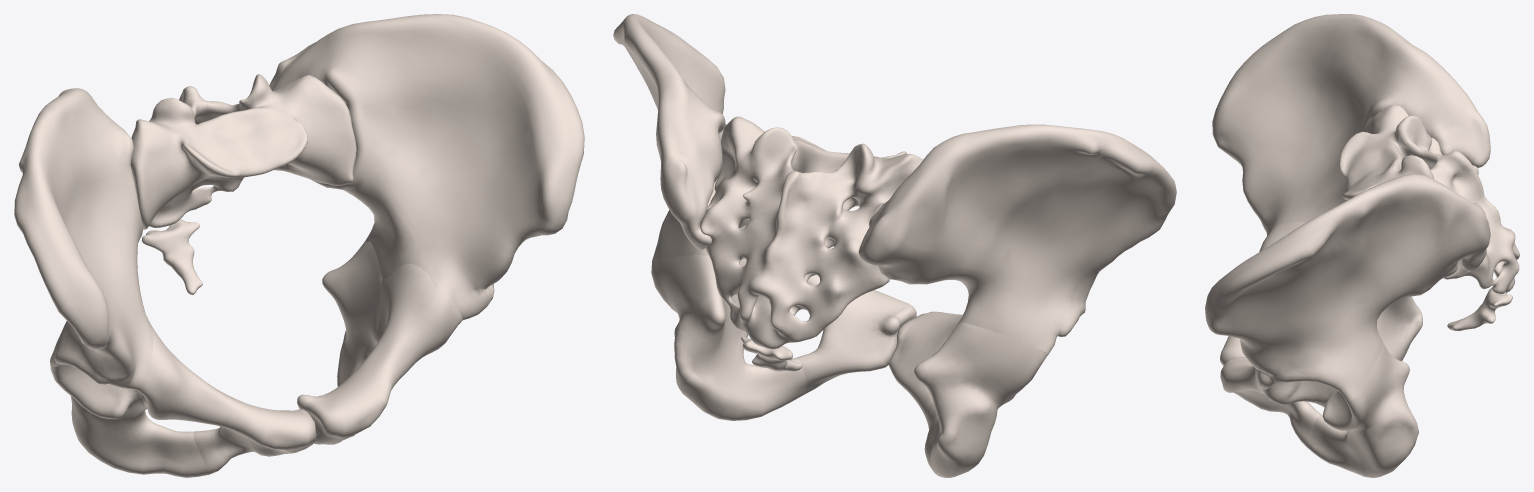
The model's file is female-pelvis.glb.
The picture shows the model from 3 angles, left to right: view 1: azimuth 30°, elevation 25°; view 2: azimuth 150°, elevation 25°; view 3: azimuth 270°, elevation 25°; orthographic projection. The views are drawn at different scales.
Parts seen in each view (by area): view 1: VH_F_sacrum; view 2: VH_F_sacrum; view 3: VH_F_sacrum.
Boxes of the visible parts, left/top/right/bottom form: VH_F_sacrum: left=14, top=14, right=584, bottom=477; VH_F_sacrum: left=613, top=14, right=1176, bottom=477; VH_F_sacrum: left=1205, top=14, right=1519, bottom=477.
Bounding box in the file's own units: 0.3168 × 0.2115 × 0.1827.
